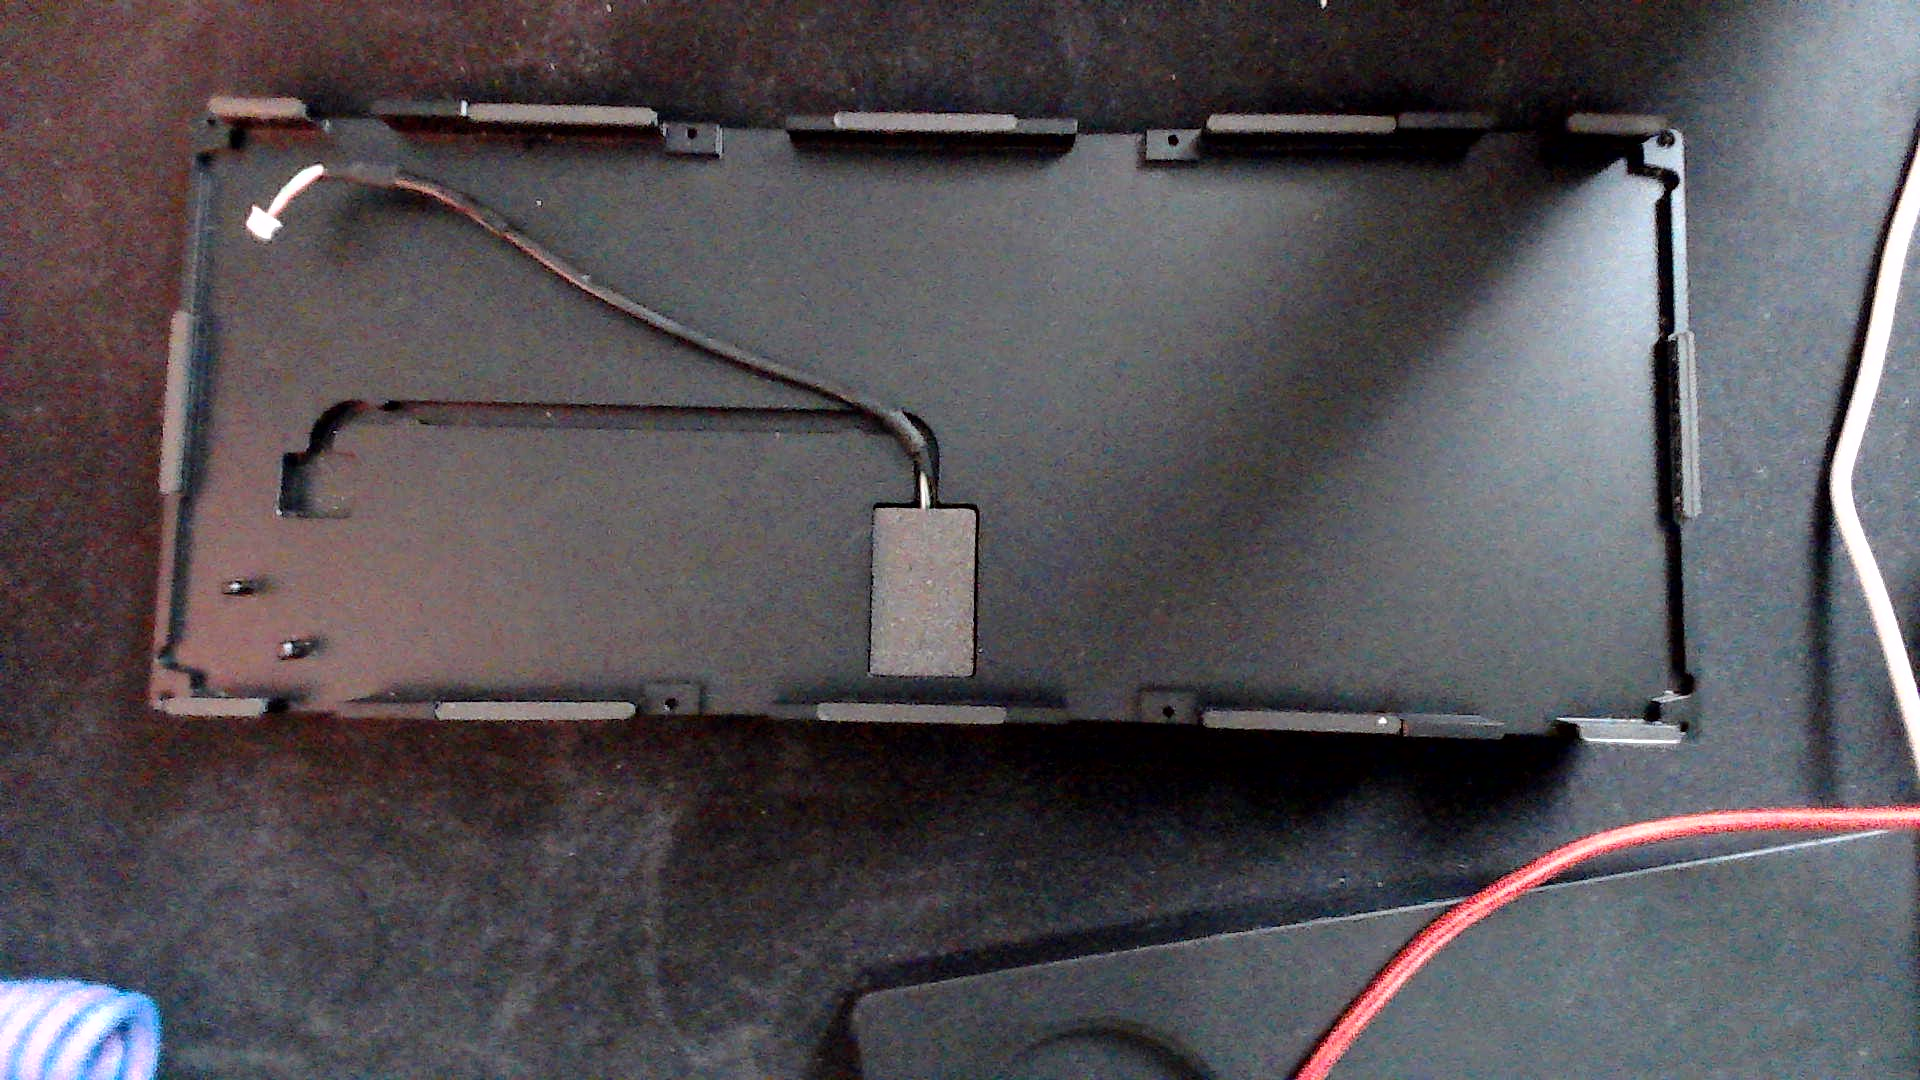case: (120, 61, 1722, 775)
